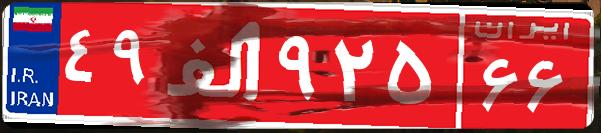2: (330, 28, 385, 110)
4: (57, 26, 110, 107)
5: (385, 28, 445, 110)
6: (475, 38, 525, 113), (525, 38, 570, 115)
9: (273, 28, 330, 110), (110, 28, 158, 105)
الف: (158, 15, 273, 115)
